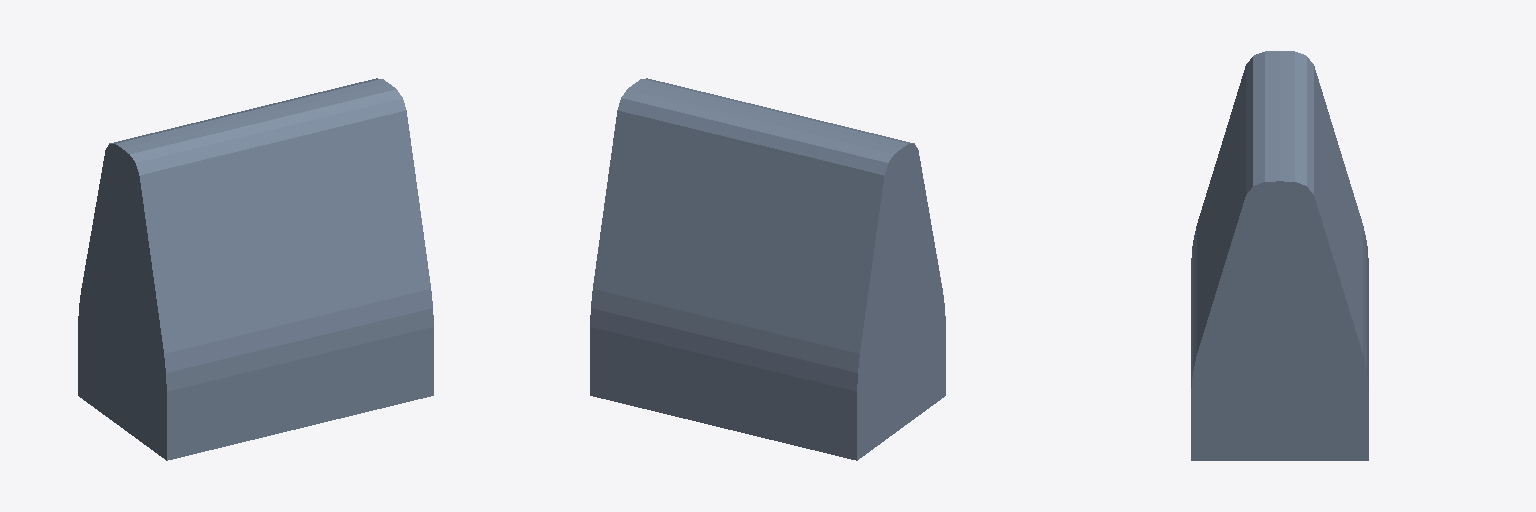
The model's file is Barrier.obj.
3 renders of one model, left to right at view 1: azimuth 30°, elevation 25°; view 2: azimuth 150°, elevation 25°; view 3: azimuth 270°, elevation 25°, orthographic.
Parts seen in each view (by area): view 1: Cube_Cube.001; view 2: Cube_Cube.001; view 3: Cube_Cube.001.
Boxes of the visible parts, <box> form: Cube_Cube.001: <box>78,78,433,460</box>; Cube_Cube.001: <box>590,78,945,460</box>; Cube_Cube.001: <box>1191,51,1368,460</box>.
Size of the model in its own units: 2 by 2 by 1.15.